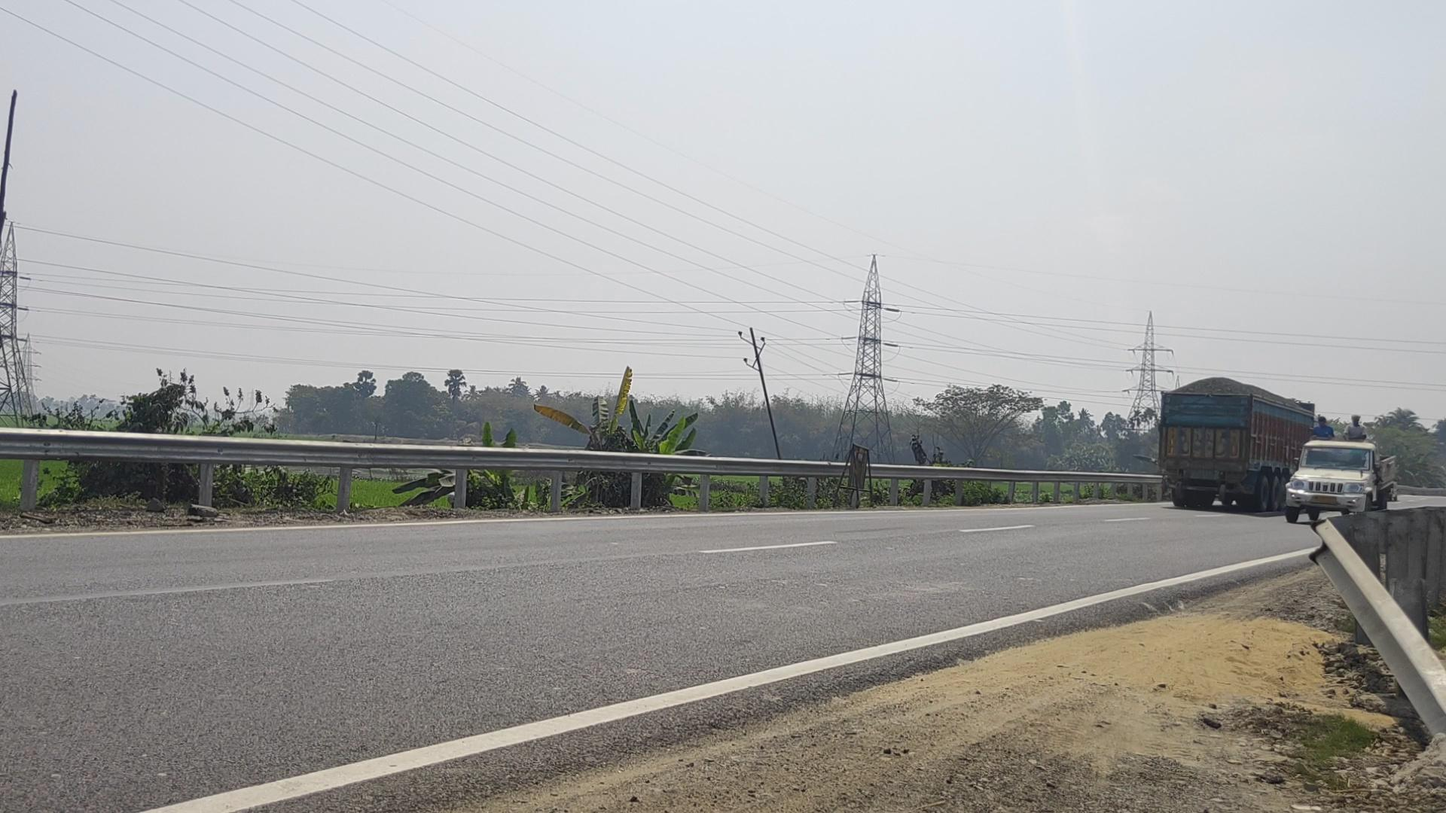truck: (1158, 376, 1321, 513)
van: (1285, 416, 1396, 526)
